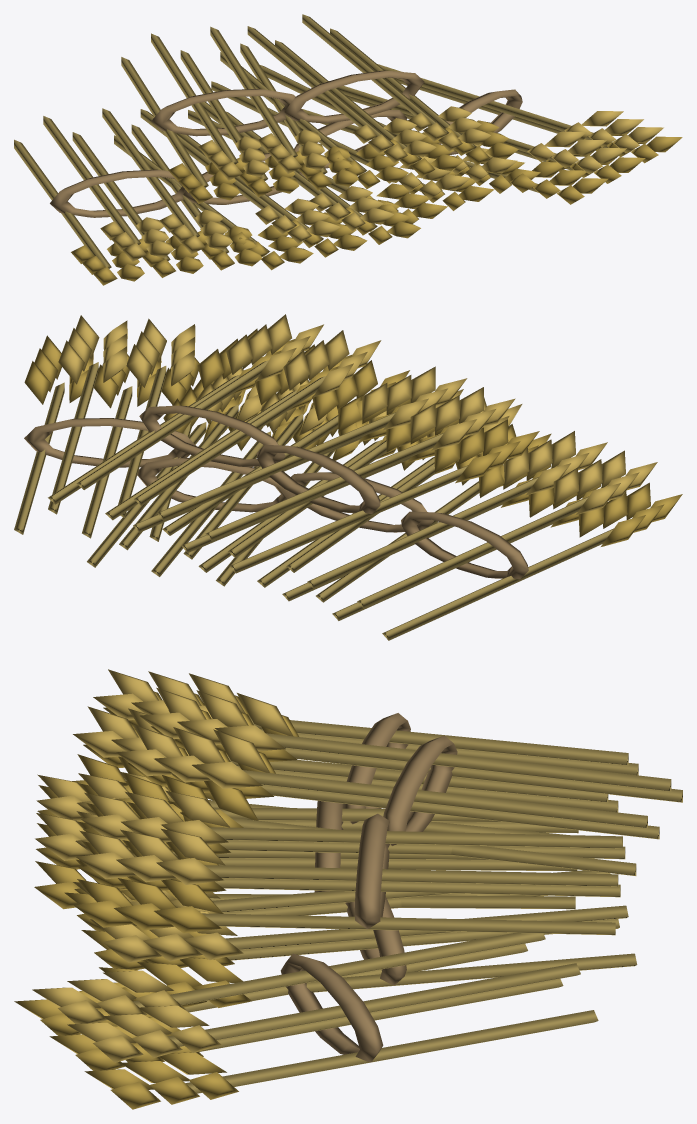
File: pile-rice-6.gltf
3 renders of one model, top to bottom at view 1: azimuth 30°, elevation 25°; view 2: azimuth 150°, elevation 25°; view 3: azimuth 270°, elevation 25°, orthographic. The views are drawn at different scales.
Parts seen in each view (by area): view 1: pile-rice-6; view 2: pile-rice-6; view 3: pile-rice-6.
Boxes of the visible parts, x1=… form: pile-rice-6: x1=14, y1=14, x2=682, y2=285; pile-rice-6: x1=14, y1=314, x2=682, y2=640; pile-rice-6: x1=14, y1=669, x2=682, y2=1109.
Bounding box in the file's own units: 0.7921 × 0.1207 × 0.545.
